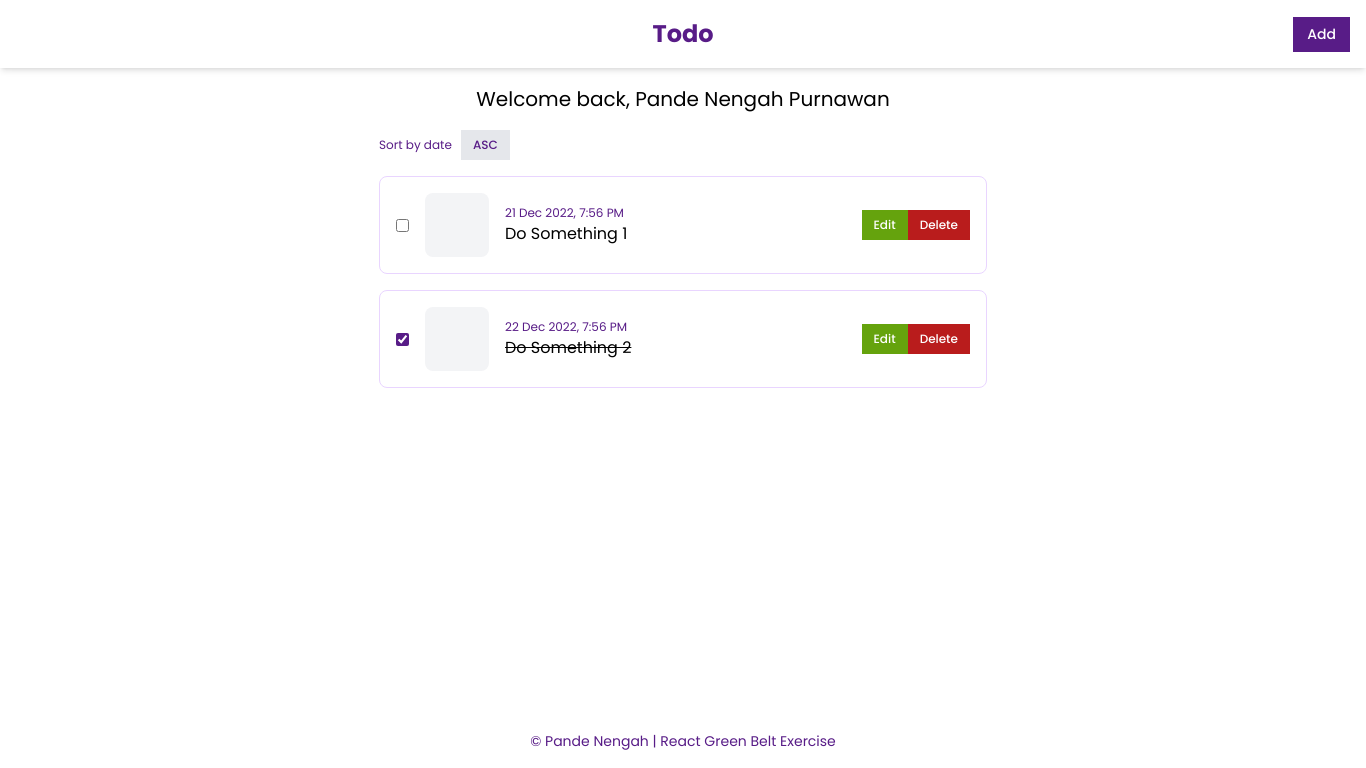
Scenario: TodoList › should render list by desc
This screenshot has width=1366, height=768.
Expected: the text with test id "sortText" reads "asc", [473, 136, 498, 153]
Step 1. Click the button with test id "sortBtn" → (485, 145), box [461, 130, 510, 160]
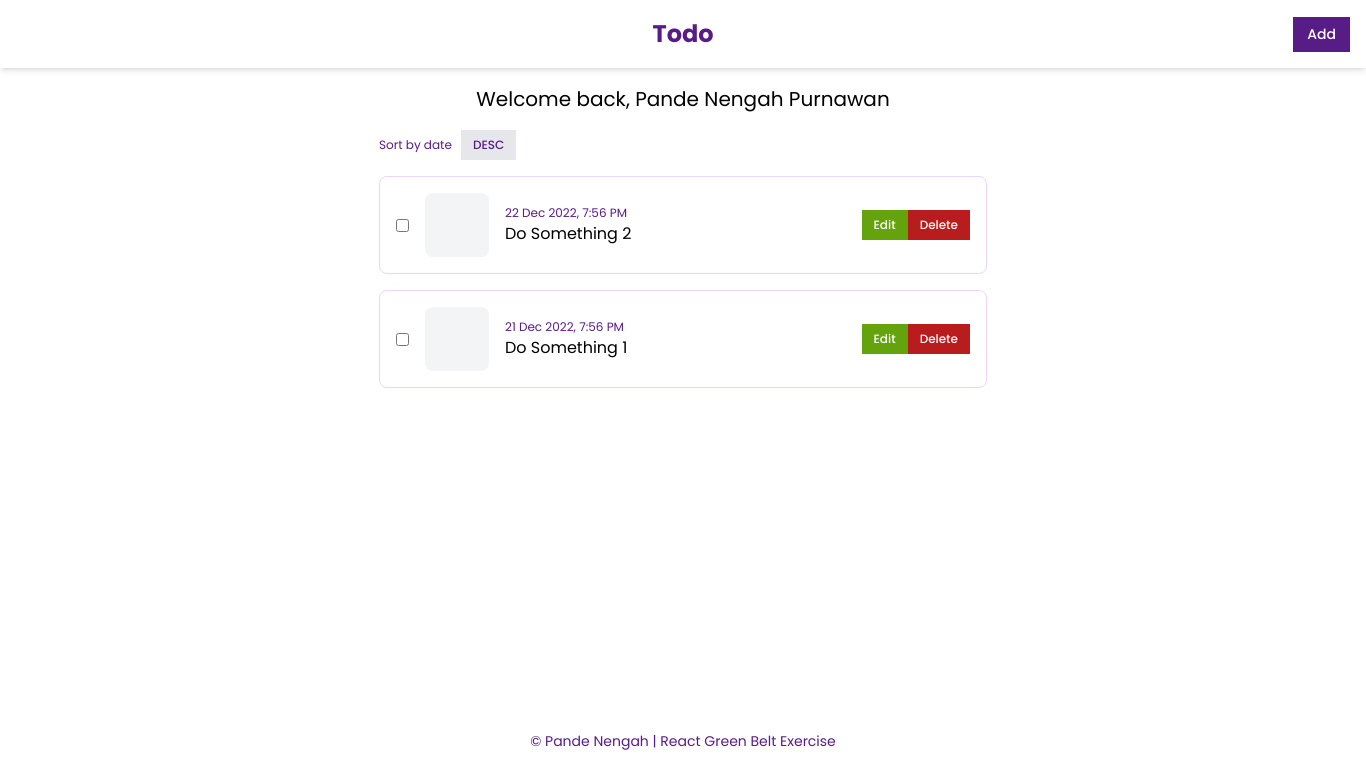
Expected: the text with test id "sortText" reads "desc", [473, 136, 504, 153]
Expected: the text "Do Something 2" is shown, [505, 222, 631, 246]
